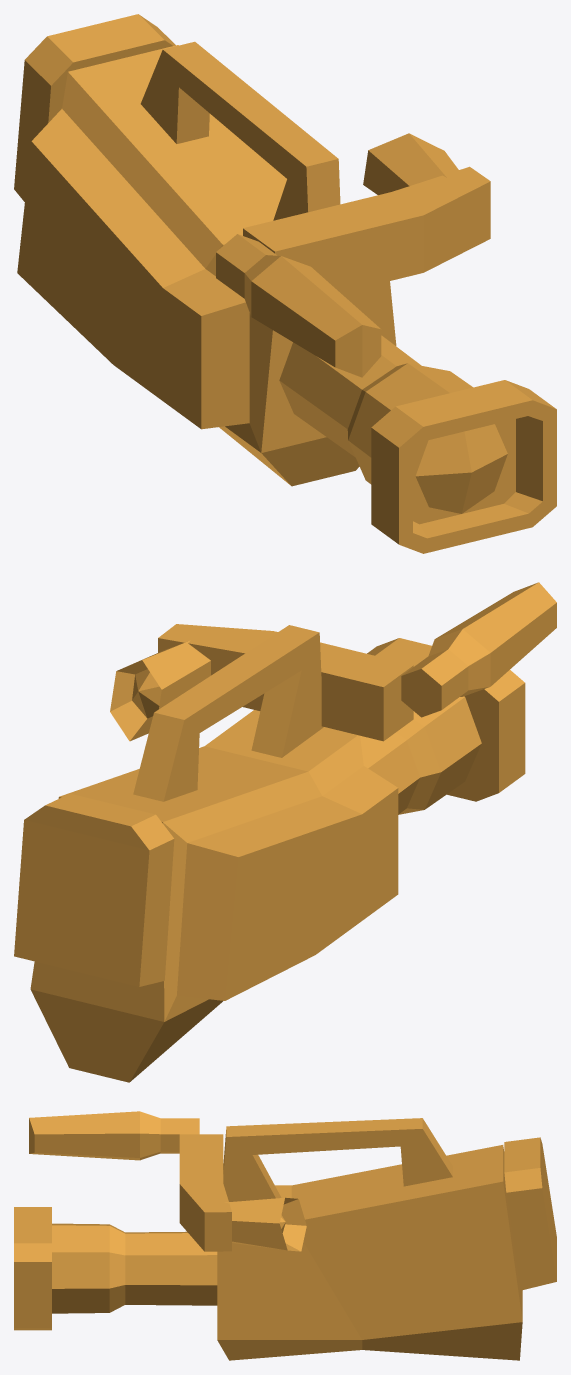
File: tv-camera.fbx
3 renders of one model, top to bottom at view 1: azimuth 30°, elevation 25°; view 2: azimuth 150°, elevation 25°; view 3: azimuth 270°, elevation 25°, orthographic. The views are drawn at different scales.
Visible parts, largest first — view 1: tv-camera; view 2: tv-camera; view 3: tv-camera.
Part boxes in pixels (box(x1,y1,x2,y2)): tv-camera: box(14, 14, 556, 553); tv-camera: box(14, 582, 556, 1082); tv-camera: box(14, 1111, 556, 1360).
Bounding box in the file's own units: 0.2952 × 0.3144 × 0.686.
